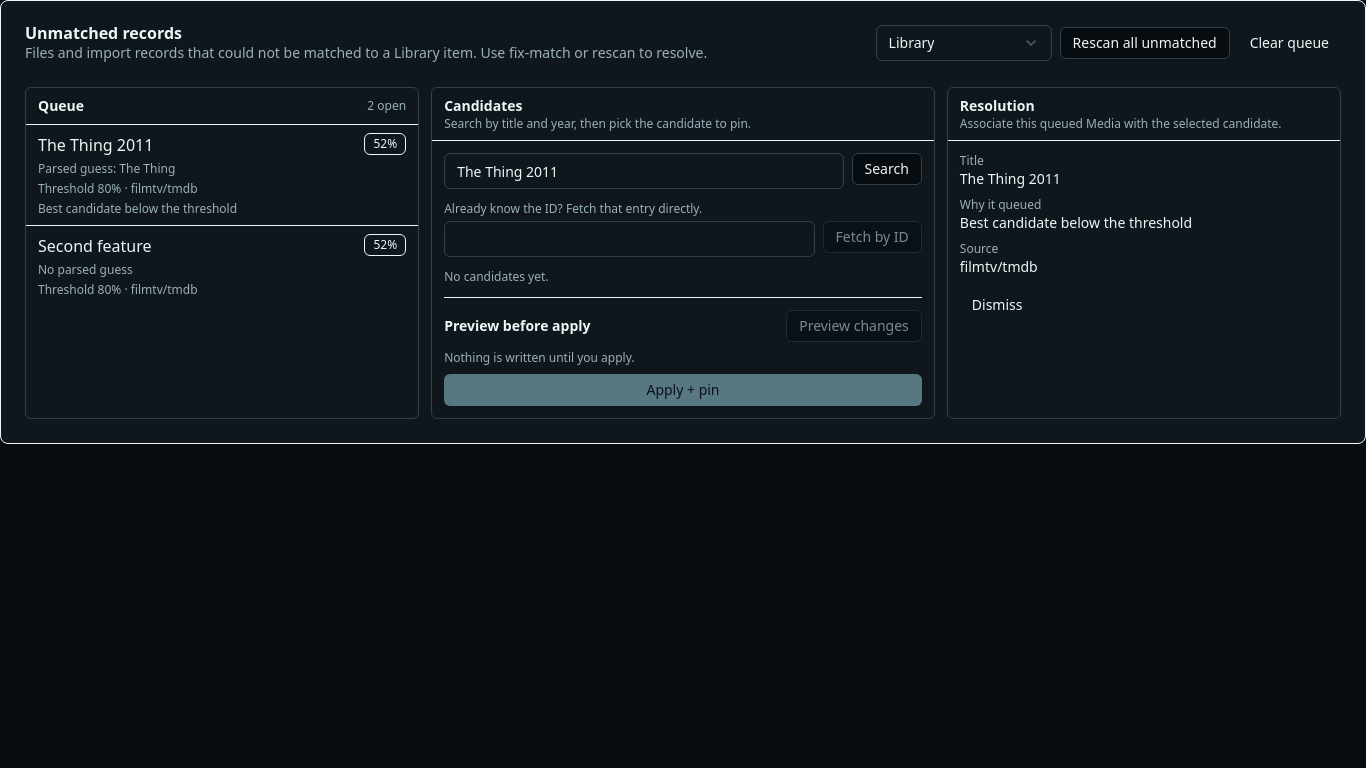
Test case: UnmatchedPage › reloads the queue from the server when Clear queue partially fails
Expected: the text "Second feature" is shown, [38,234,152,258]
Click the button "Clear queue": (1289, 43) [1238,27,1341,59]
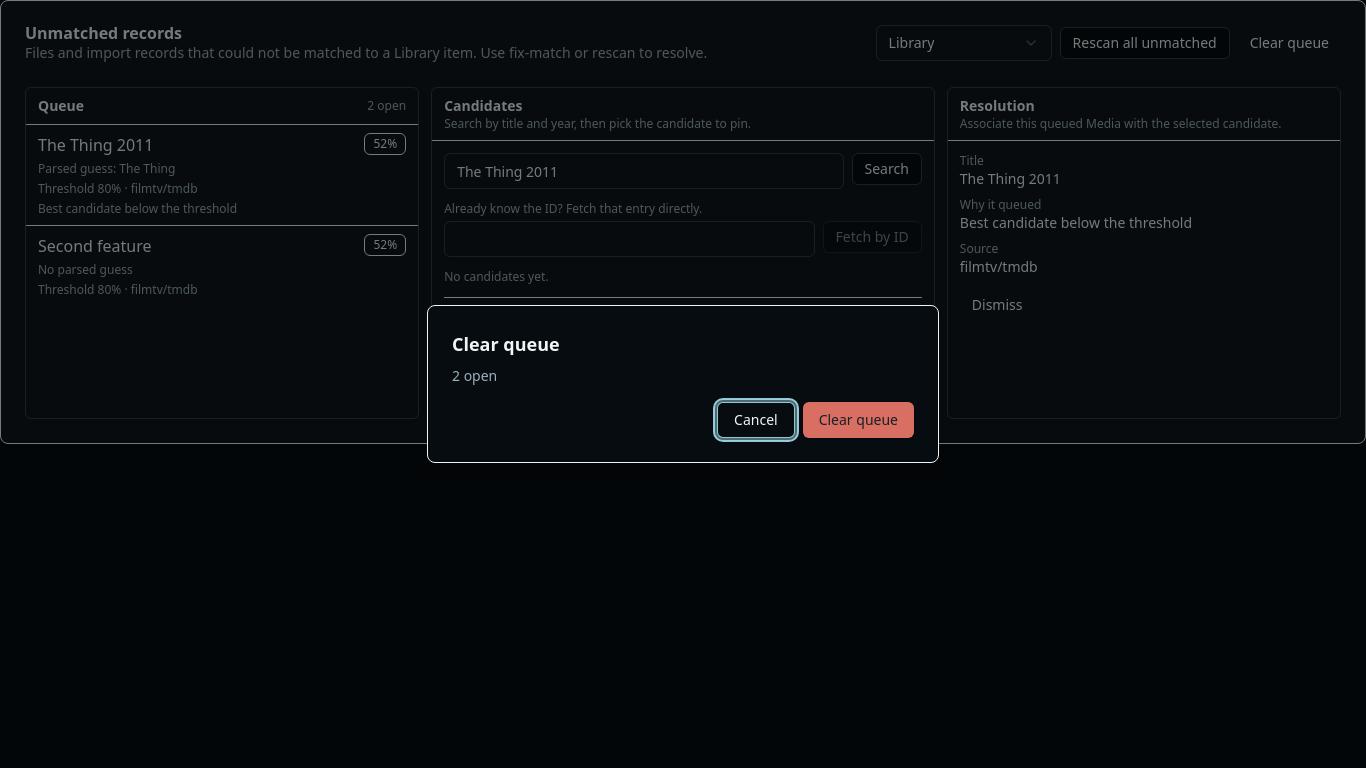
Click the button "Clear queue": (858, 420) [803,402,914,438]
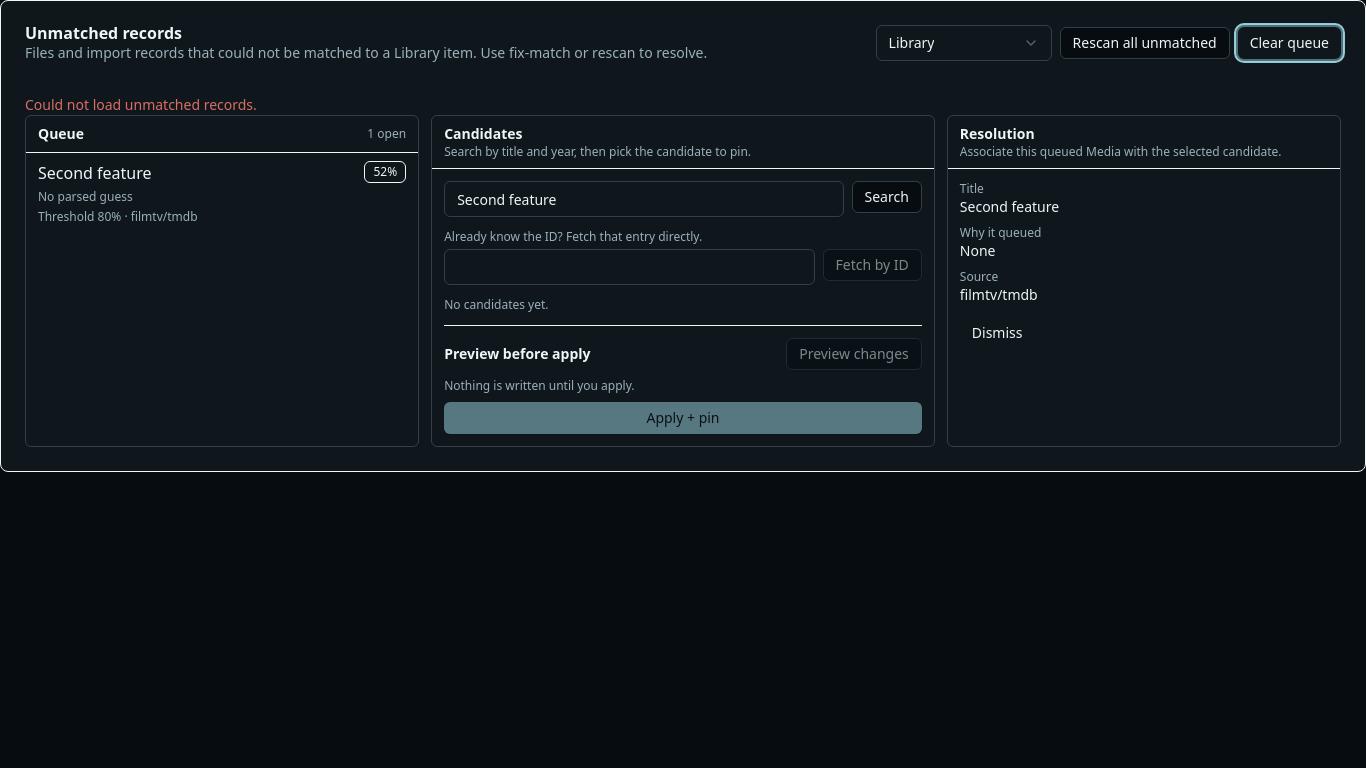
Expected: the text "Second feature" below "1 open" is shown, [38,162,152,184]
Result: the button "The Thing 2011" is gone
Result: the text "Could not load unmatched records." is shown at [25,95,257,114]
